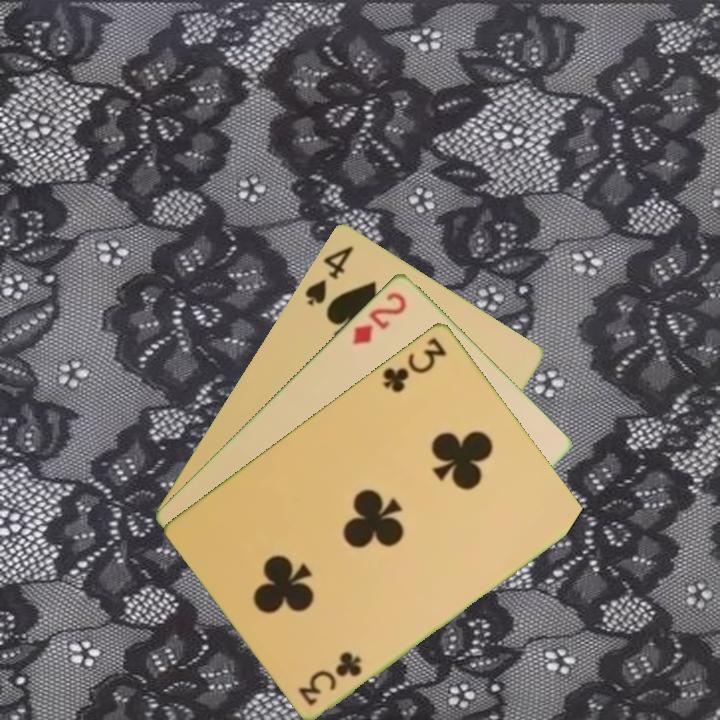2d: (348, 287, 409, 347)
3c: (379, 333, 450, 395), (295, 648, 365, 708)
4s: (301, 241, 357, 308)
